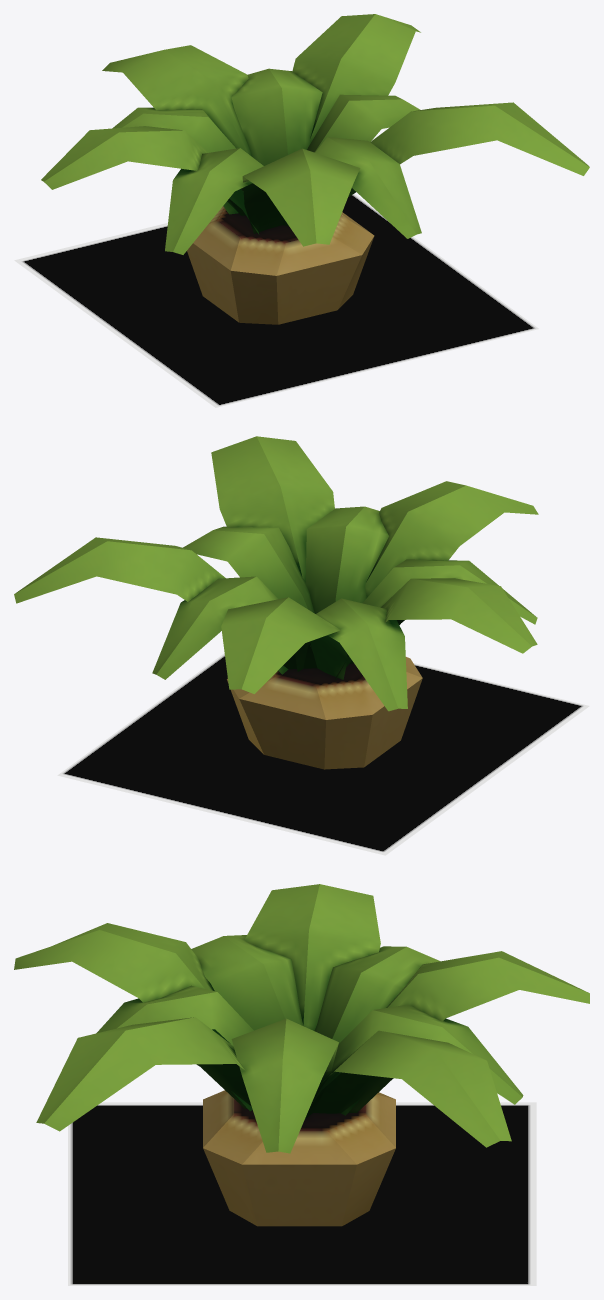
File: 2x2_plant.FBX
3 renders of one model, top to bottom at view 1: azimuth 30°, elevation 25°; view 2: azimuth 150°, elevation 25°; view 3: azimuth 270°, elevation 25°, orthographic. The views are drawn at different scales.
Parts seen in each view (by area): view 1: 2x2_plant, 2x2_plant_soft_shadow; view 2: 2x2_plant, 2x2_plant_soft_shadow; view 3: 2x2_plant, 2x2_plant_soft_shadow.
Part boxes in pixels (x1,y1,x2,y2): 2x2_plant: [41, 14, 589, 324]; 2x2_plant_soft_shadow: [14, 193, 538, 407]; 2x2_plant: [14, 436, 538, 769]; 2x2_plant_soft_shadow: [57, 653, 589, 855]; 2x2_plant: [14, 884, 589, 1226]; 2x2_plant_soft_shadow: [68, 1102, 536, 1285].
Bounding box in the file's own units: 2003 × 918 × 1938.
